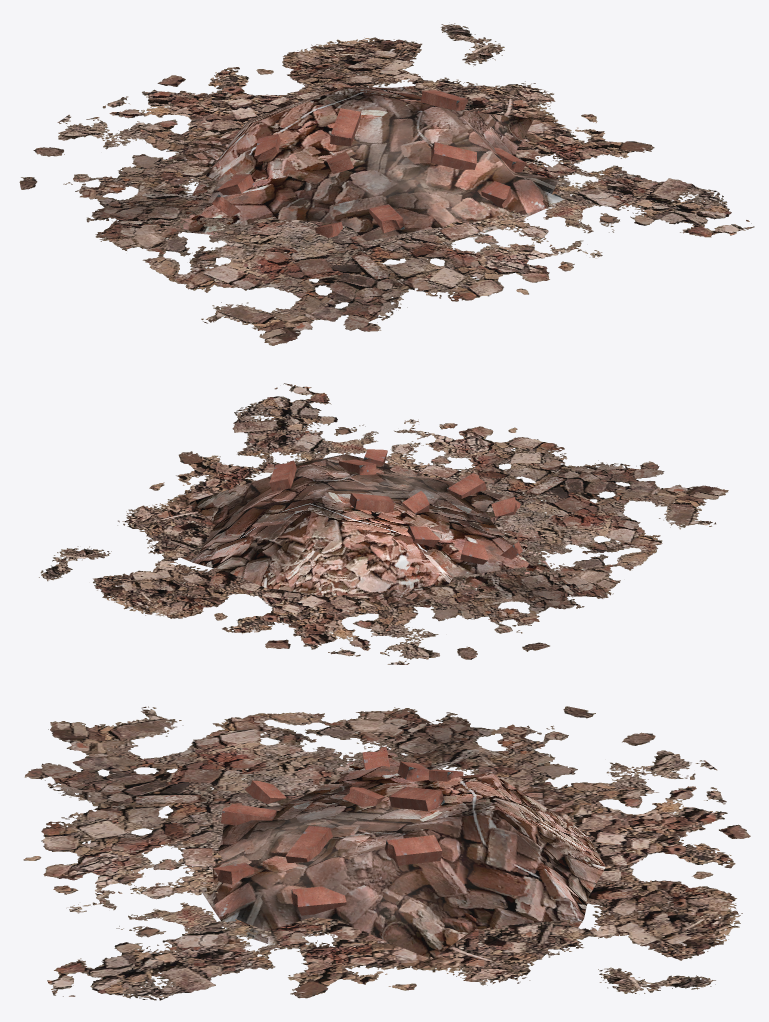
The model's file is BrickTrash.FBX.
3 renders of one model, top to bottom at view 1: azimuth 30°, elevation 25°; view 2: azimuth 150°, elevation 25°; view 3: azimuth 270°, elevation 25°, orthographic. The views are drawn at different scales.
Visible parts, largest first — view 1: decal, brickpile; view 2: decal, brickpile; view 3: decal, brickpile.
Boxes of the visible parts, x1=… form: decal: x1=19, y1=23, x2=754, y2=345; brickpile: x1=168, y1=86, x2=570, y2=256; decal: x1=39, y1=383, x2=728, y2=664; brickpile: x1=181, y1=449, x2=550, y2=607; decal: x1=23, y1=706, x2=750, y2=1000; brickpile: x1=202, y1=746, x2=605, y2=959.
Bounding box in the file's own units: 3.61 × 0.4528 × 3.61.
